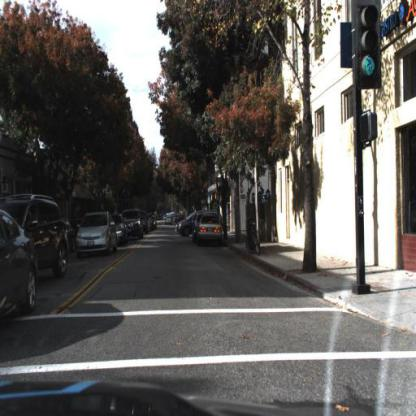car: (16, 193, 68, 281), (2, 205, 40, 319), (73, 209, 117, 262), (194, 212, 226, 252), (124, 206, 145, 242), (176, 211, 201, 238), (114, 209, 130, 251)
trafficLight-Green: (358, 3, 381, 89)
